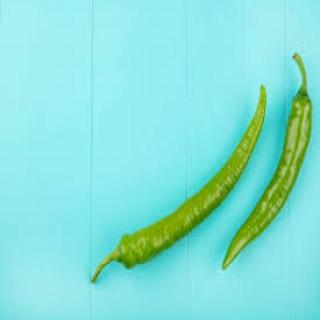Cabai Hijau: (106, 99, 266, 267), (225, 89, 318, 265)
